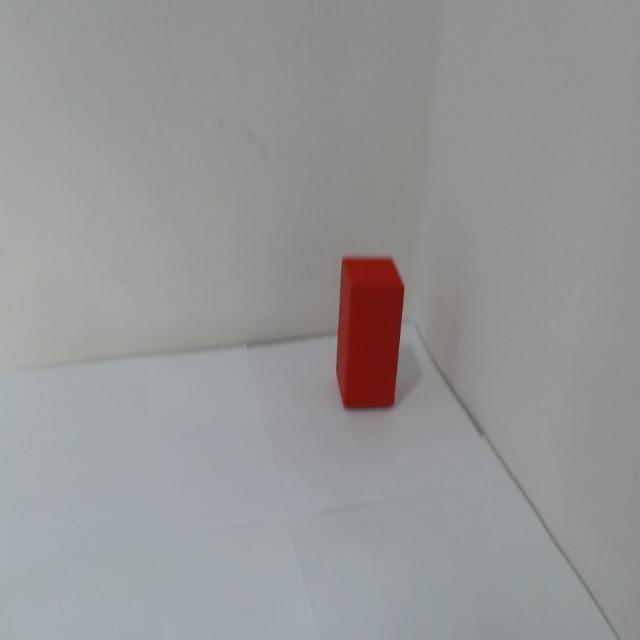cube: (318, 241, 412, 423)
